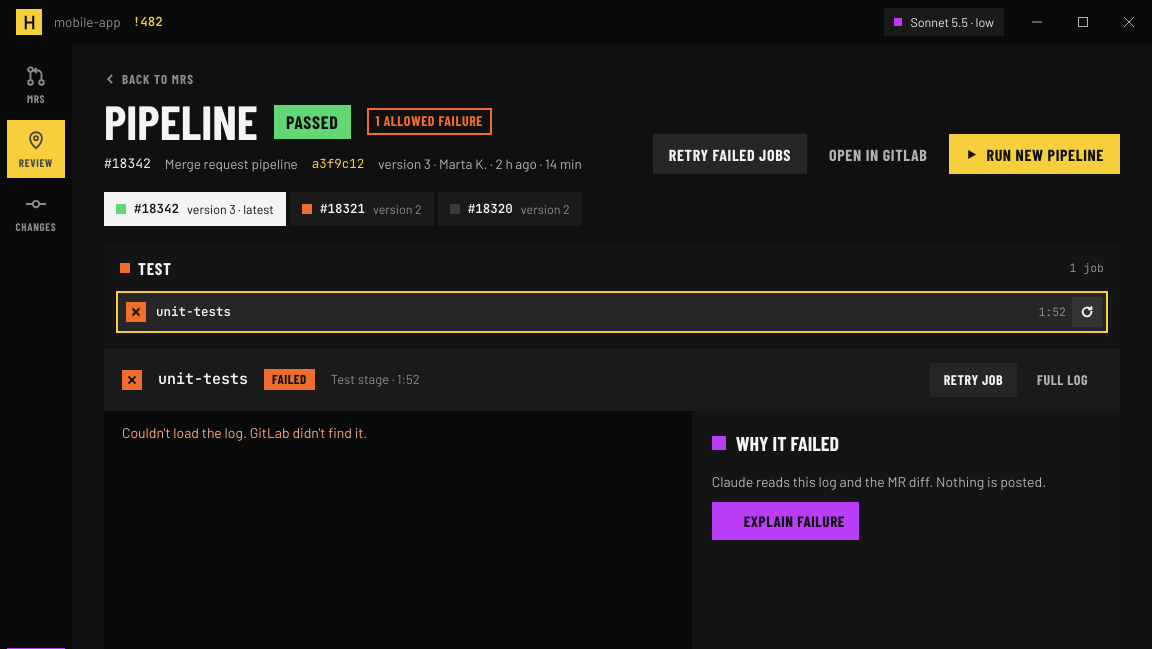
Test case: S-08 Explain failure (F-20.7) › F-20.7 the result shows the verdict, title, explanation and evidence chips
Click the button "Explain failure".
click(785, 521)  # box [712,502,859,540]
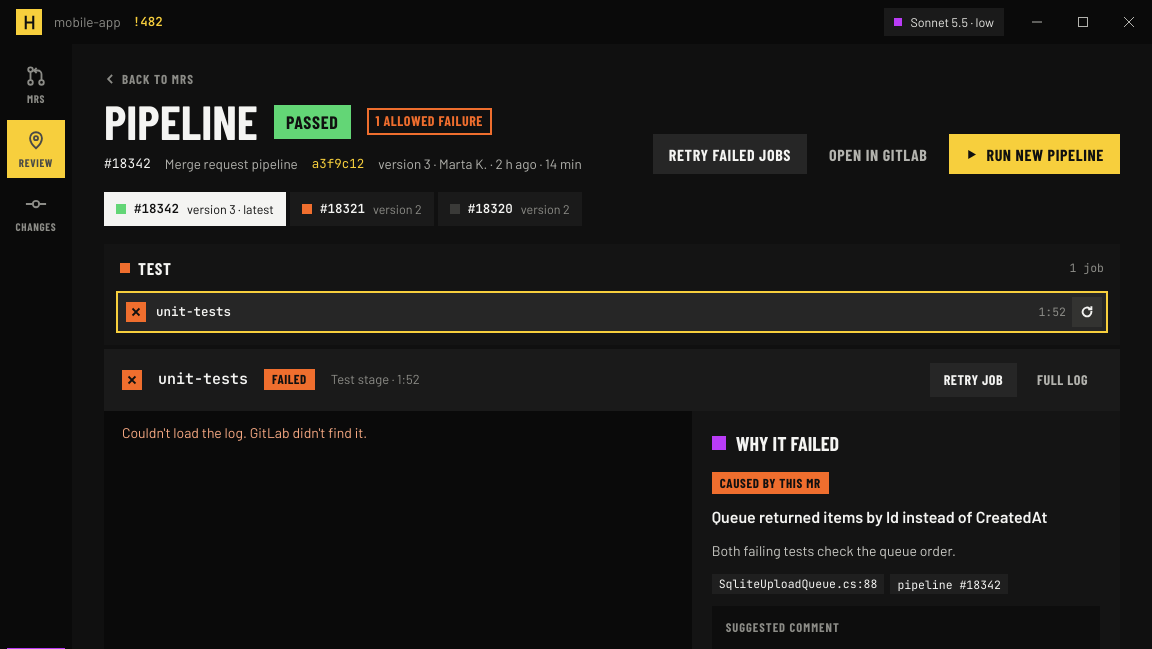
Check: the text with test id "explain-verdict" reads "Caused by this MR", box [720,475,821,491]
Check: the text "Queue returned items by Id instead of CreatedAt" is shown, box [712,506,1100,528]
Check: the text "Both failing tests check the queue order." is shown, box [712,542,956,559]
